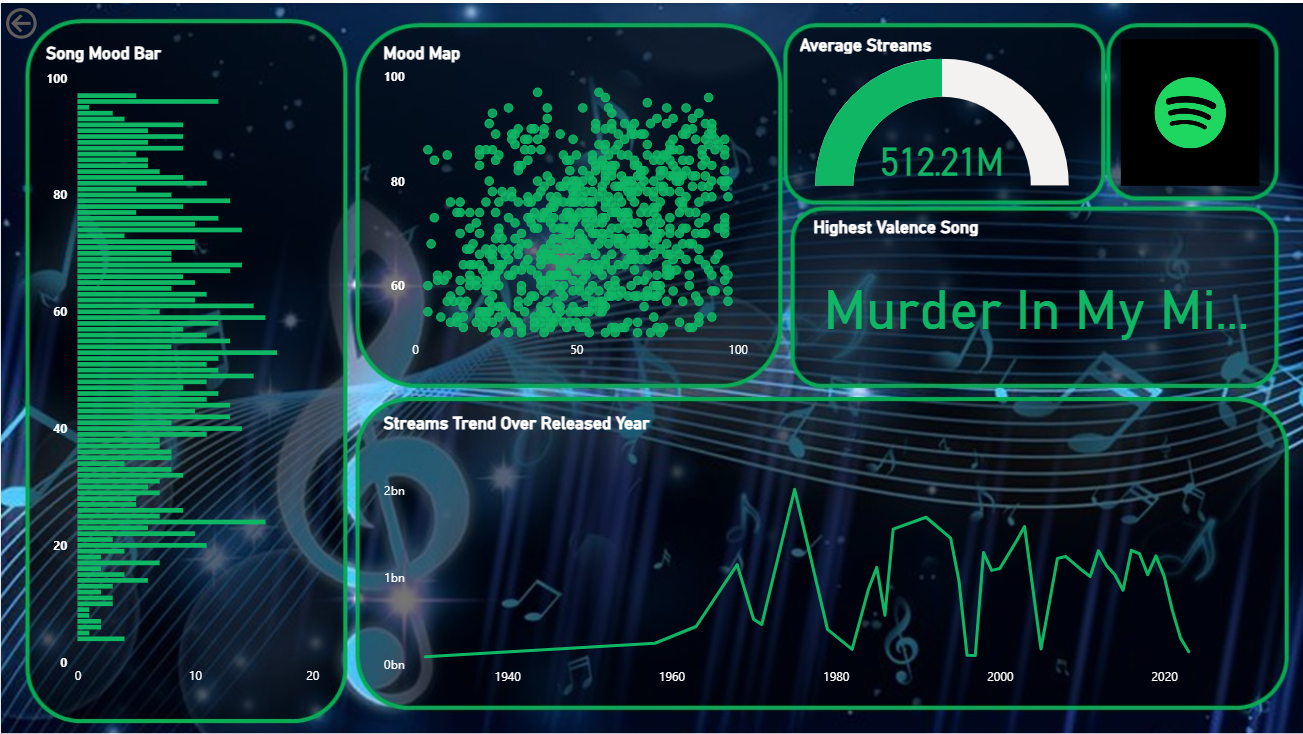

Layout of this report page (visuals, bound fields, positions):
{"tool":"powerbi","page":{"name":"spotify analysis page 2","canvas":[1280,720],"ordinal":1},"visuals":[{"type":"scatterChart","title":"Mood Map","fields":{"X":["Spotify Dataset.valence_%"],"Y":["Spotify Dataset.energy_%"]},"box":[370.5,39.8,367.8,319.7],"z":0},{"type":"lineChart","title":"Streams Trend Over Released Year","fields":{"Category":["Spotify Dataset.released_year"],"Y":["Avg(Spotify Dataset.streams)"]},"box":[370.5,402.1,870,277.2],"z":1},{"type":"gauge","title":"Average Streams","fields":{"Y":["Avg(Spotify Dataset.streams)"]},"box":[779.4,30.2,289.5,153.7],"z":2},{"type":"image","box":[1095,30.2,145.5,153.7],"z":3},{"type":"barChart","title":"Song Mood Bar","fields":{"Category":["Spotify Dataset.valence_%"],"Y":["Count(Spotify Dataset.track_name)"]},"box":[39.8,39.8,278.6,639.5],"z":4},{"type":"actionButton","box":[0,0,100,40],"z":6},{"type":"card","title":"Highest Valence Song","fields":{"Values":["Spotify Dataset.highest valence song"]},"box":[793.1,209.9,447.3,149.6],"z":7}]}

Visuals, with their boxes in screenshot pixels (x1, y1, x2, y2), scaled from the page's 1280x720 canvas onto the 1303x734 screenshot:
"Mood Map" scatterChart: bbox=[377, 41, 752, 366]
"Streams Trend Over Released Year" lineChart: bbox=[377, 410, 1263, 693]
"Average Streams" gauge: bbox=[793, 31, 1088, 187]
image: bbox=[1115, 31, 1263, 187]
"Song Mood Bar" barChart: bbox=[41, 41, 324, 693]
actionButton: bbox=[0, 0, 102, 41]
"Highest Valence Song" card: bbox=[807, 214, 1263, 366]
